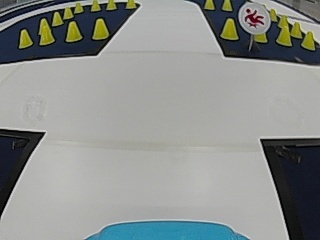cone: (38, 18, 53, 45), (221, 18, 238, 40), (276, 21, 290, 46), (92, 18, 108, 39), (65, 21, 81, 42), (301, 31, 315, 50), (18, 28, 31, 48), (291, 21, 301, 38), (51, 11, 62, 26), (63, 6, 73, 19), (90, 0, 100, 12), (74, 1, 83, 14), (269, 8, 277, 22), (222, 0, 232, 11), (106, 0, 116, 10), (204, 0, 214, 10), (126, 0, 136, 9)
tumble: (241, 4, 268, 31)
